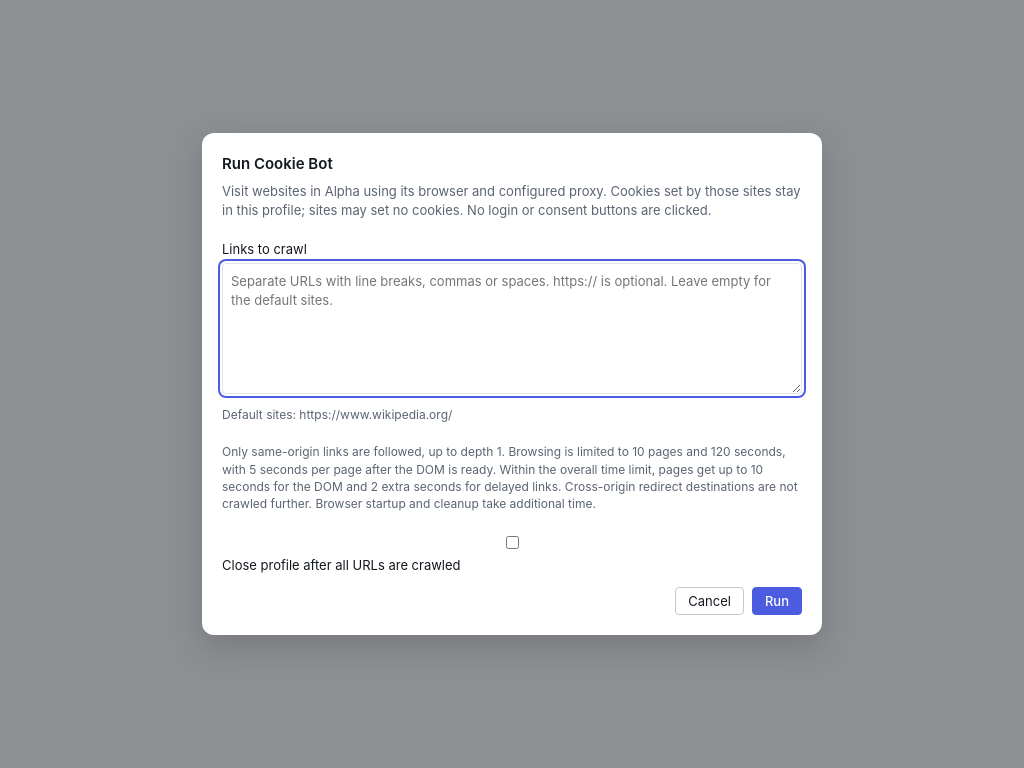
Test case: uses displayed defaults when empty, prevents duplicate starts, and reports failures
Expected: the text "Default sites: https://www.wikipedia.org/" is shown, [222, 407, 452, 422]
Click the button "Run" at (777, 601), box [752, 587, 802, 615]
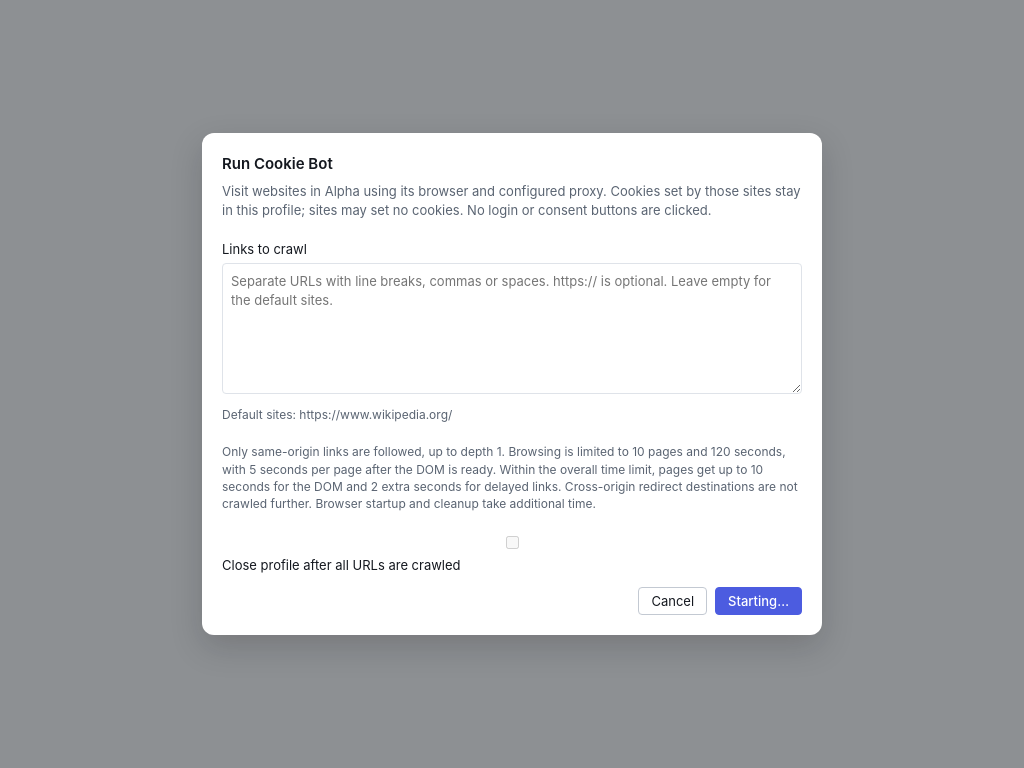
Click the button "Starting…" at (759, 601), box [715, 587, 802, 615]
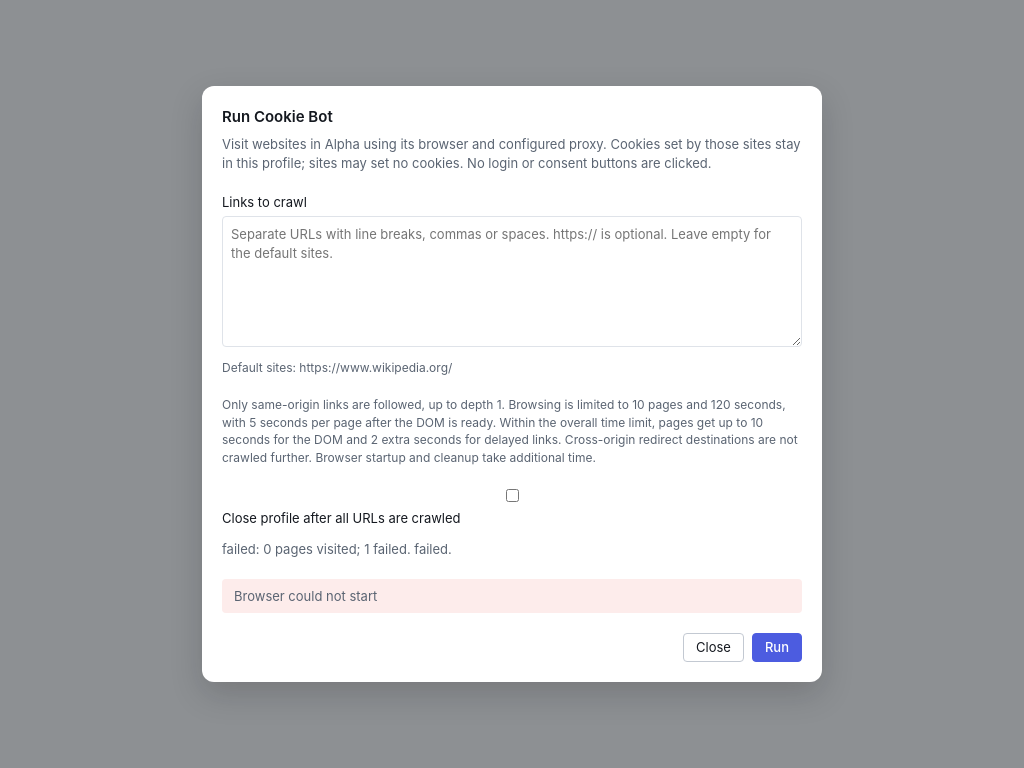
Result: the message "Browser could not start" is shown at [222, 579, 802, 613]
